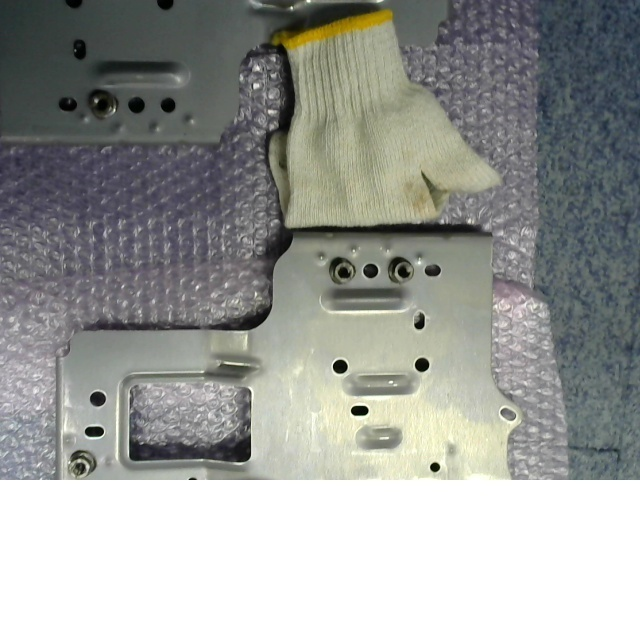dog: (87, 88, 117, 118), (68, 451, 96, 479), (329, 257, 356, 285), (388, 256, 414, 283)
